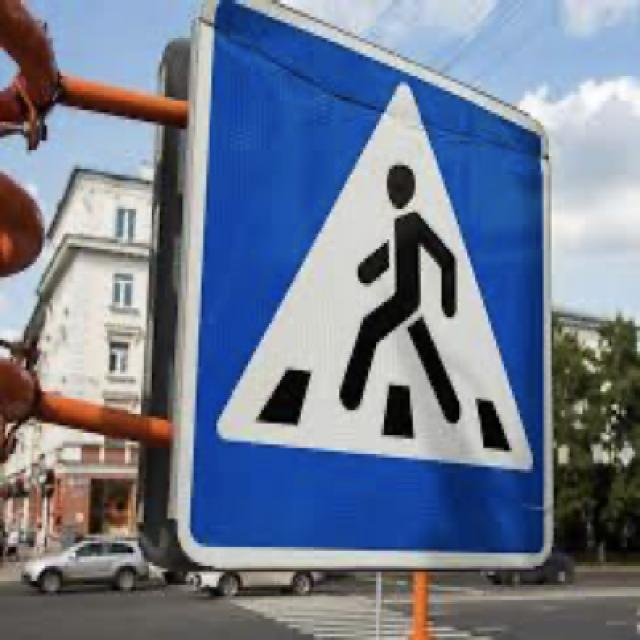crosswalk_sign: (172, 0, 556, 574)
